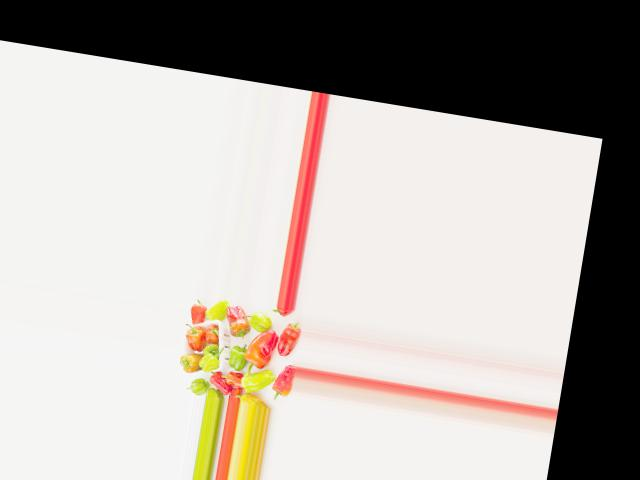bell_pepper: (267, 367, 295, 403)
